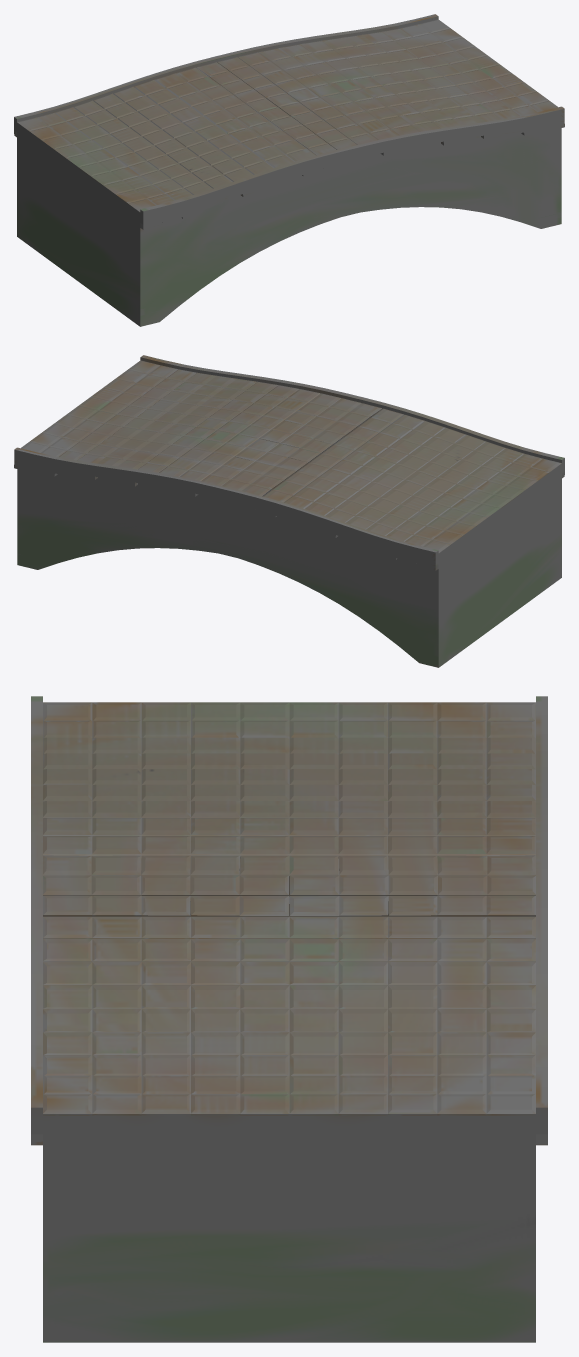
The model's file is UStoneBridge.fbx.
3 views of the same model, one above another, from view 1: azimuth 30°, elevation 25°; view 2: azimuth 150°, elevation 25°; view 3: azimuth 270°, elevation 25° (orthographic). The views are drawn at different scales.
Visible parts, largest first — view 1: Cube; view 2: Cube; view 3: Cube.
Part boxes in pixels (bbox=[...]): Cube: bbox=[14, 14, 564, 326]; Cube: bbox=[14, 355, 564, 667]; Cube: bbox=[31, 696, 547, 1342].
Size of the model in its own units: 390 by 114 by 207.
Materials: 1 (1 with a texture image).
